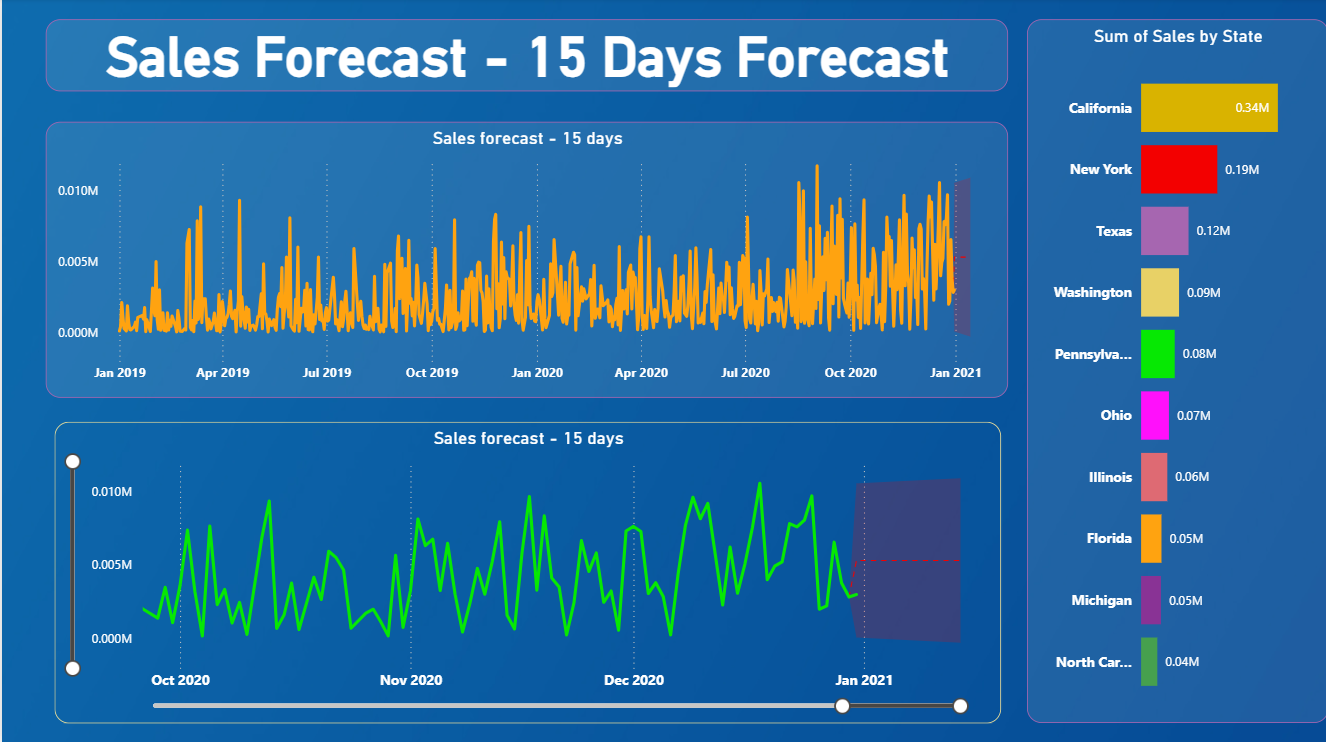

The dashboard page shown, as its layout file describes it:
{"tool":"powerbi","page":{"name":"Forecast 15 days","canvas":[1280,720],"ordinal":1},"visuals":[{"type":"lineChart","title":"Sales forecast - 15 days","fields":{"Y":["Sum(SuperStore_Sales_Dataset.Sales)"],"Category":["SuperStore_Sales_Dataset.Order Date"]},"box":[50.8,408.9,913.9,290.9],"z":0},{"type":"lineChart","title":"Sales forecast - 15 days","fields":{"Y":["Sum(SuperStore_Sales_Dataset.Sales)"],"Category":["SuperStore_Sales_Dataset.Order Date"]},"box":[42.5,119.4,929,266.2],"z":1000},{"type":"clusteredBarChart","fields":{"Category":["SuperStore_Sales_Dataset.State"],"Y":["Sum(SuperStore_Sales_Dataset.Sales)"]},"box":[989.4,20.6,290.9,679.2],"z":2000},{"type":"textbox","title":"Sales Forecast -  15 Days Forecast","box":[42.5,20.6,929,70],"z":3000}]}

Visuals, with their boxes in screenshot pixels (x1, y1, x2, y2), scaled from the page's 1280x720 canvas onto the 1326x742 screenshot:
"Sales forecast - 15 days" lineChart: (x1=53, y1=421, x2=999, y2=721)
"Sales forecast - 15 days" lineChart: (x1=44, y1=123, x2=1006, y2=397)
clusteredBarChart - SuperStore_Sales_Dataset.State x Sum(SuperStore_Sales_Dataset.Sales): (x1=1025, y1=21, x2=1325, y2=721)
"Sales Forecast -  15 Days Forecast" textbox: (x1=44, y1=21, x2=1006, y2=93)
